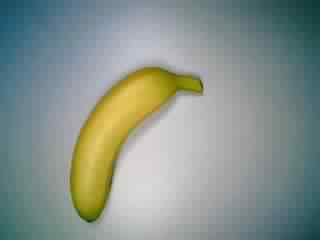banana: (67, 66, 206, 222)
